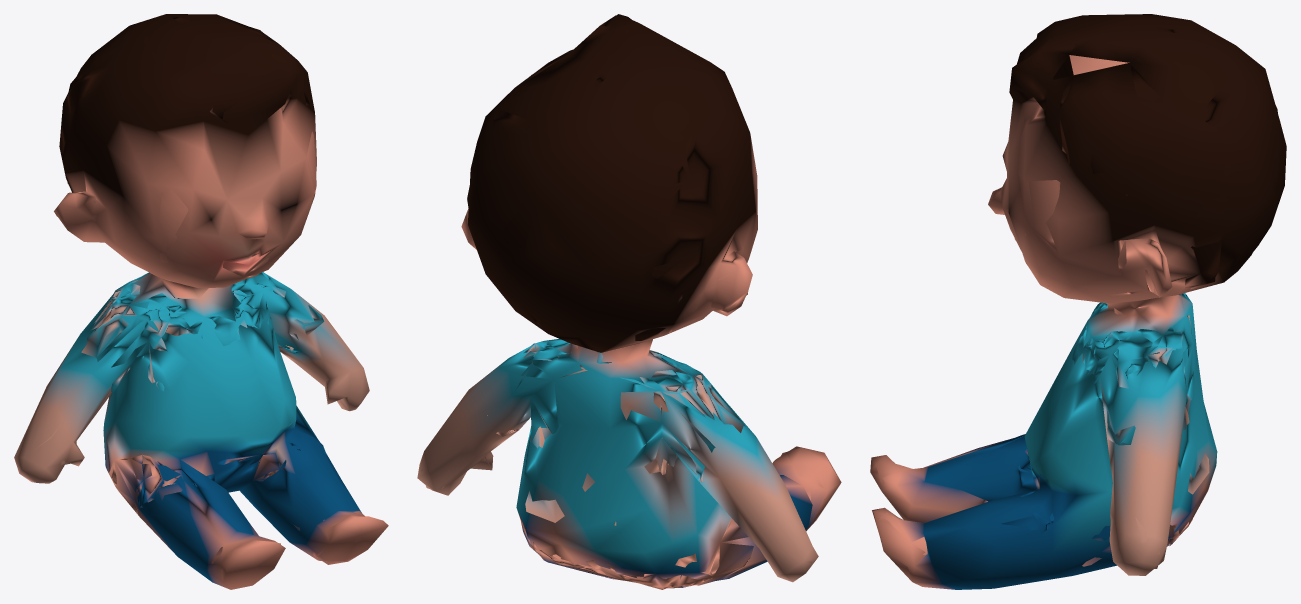
Rendered from gen3d-baby-lod0.glb.
3 views of the same model, side by side, from view 1: azimuth 30°, elevation 25°; view 2: azimuth 150°, elevation 25°; view 3: azimuth 270°, elevation 25° (orthographic). The views are drawn at different scales.
Parts seen in each view (by area): view 1: part_0; view 2: part_0; view 3: part_0.
Boxes of the visible parts, x1,y1,x2,y2 form: part_0: [14, 14, 388, 589]; part_0: [417, 14, 841, 589]; part_0: [870, 14, 1286, 589].
Size of the model in its own units: 0.7532 by 1 by 0.7028.
